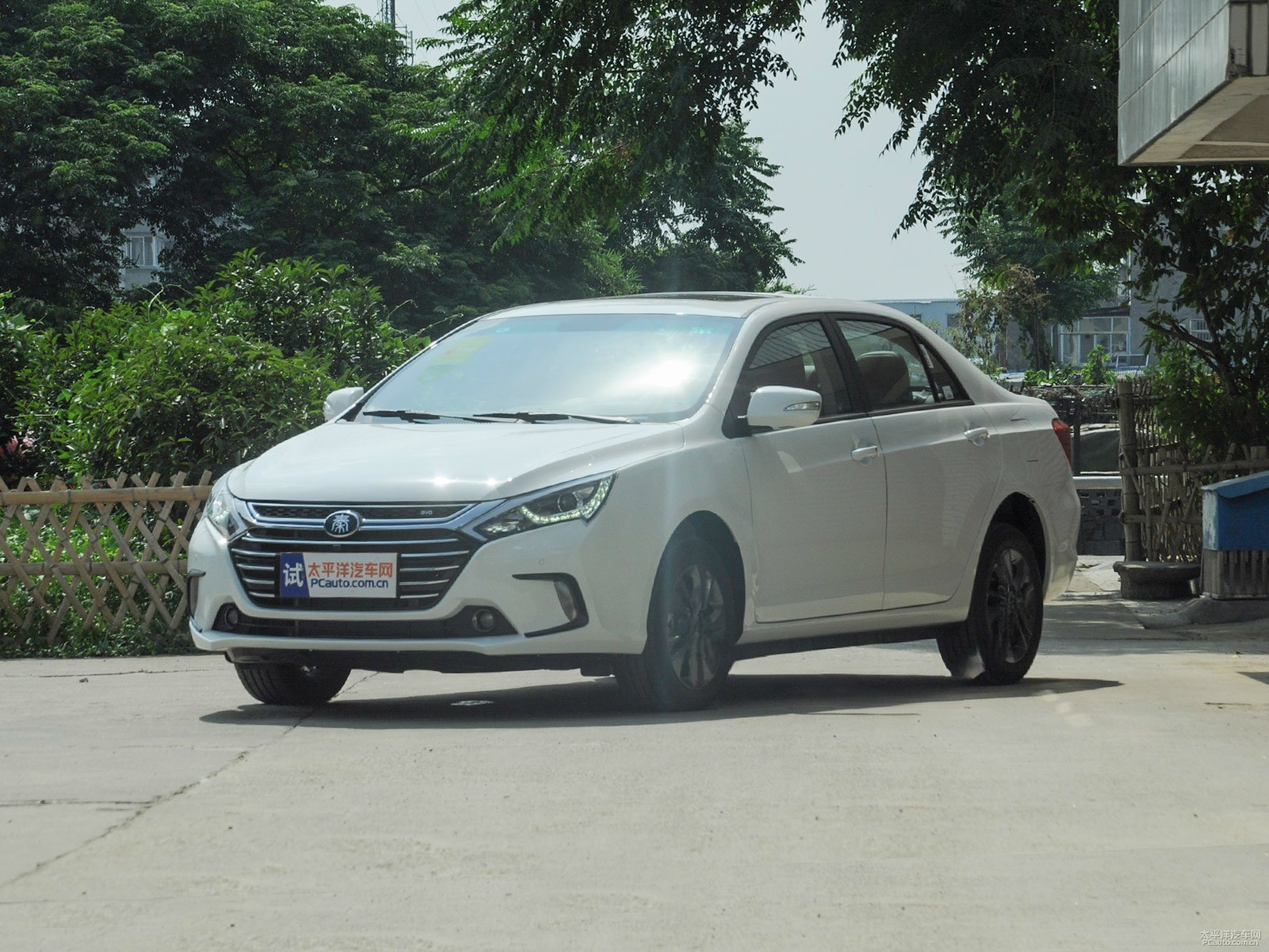BYD Qin: (325, 513, 357, 535)
